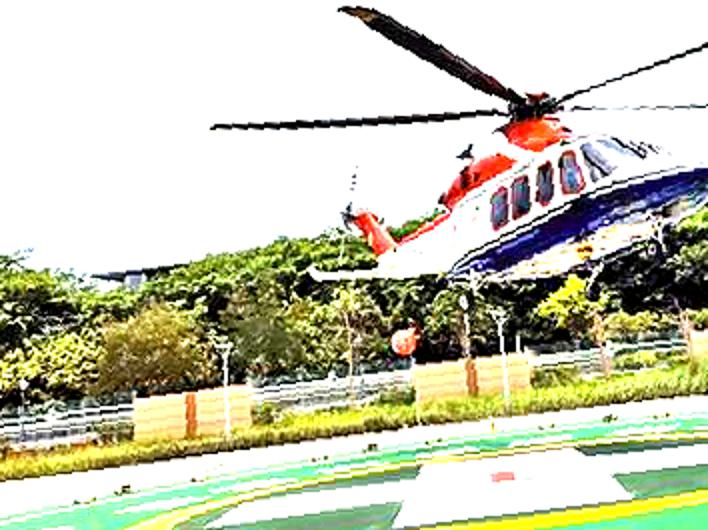Apron: (125, 424, 708, 527)
